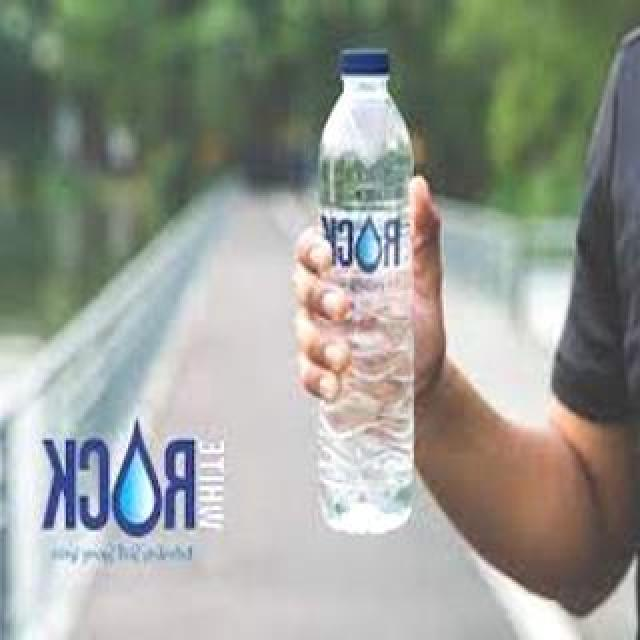Pet_Bottle: (301, 41, 419, 537)
